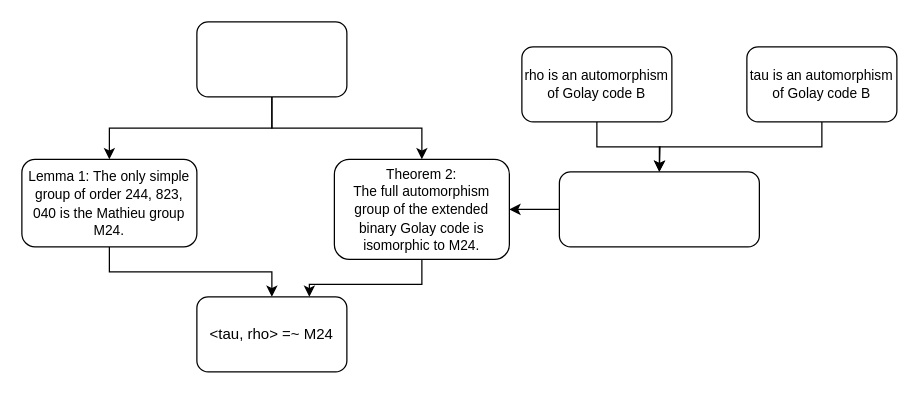
The diagram is 919 pixels wide and 394 high, and some of its shapes have lost their labels. Each missing label, with the box of its shape:
<tau,rho> is a subgroup of Aut(G), G is the Golay code: (558, 171, 759, 247)
|<tau,rho>| = |M24| proof by CPU: (196, 21, 347, 97)
